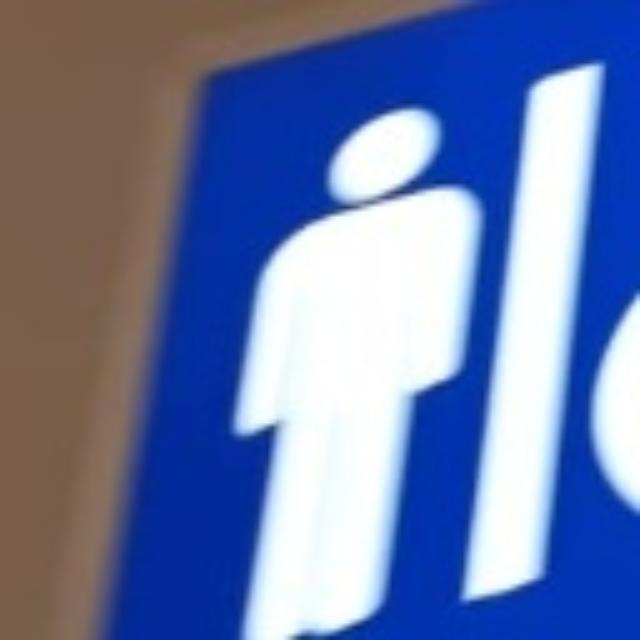mens_restroom: (100, 0, 635, 635)
